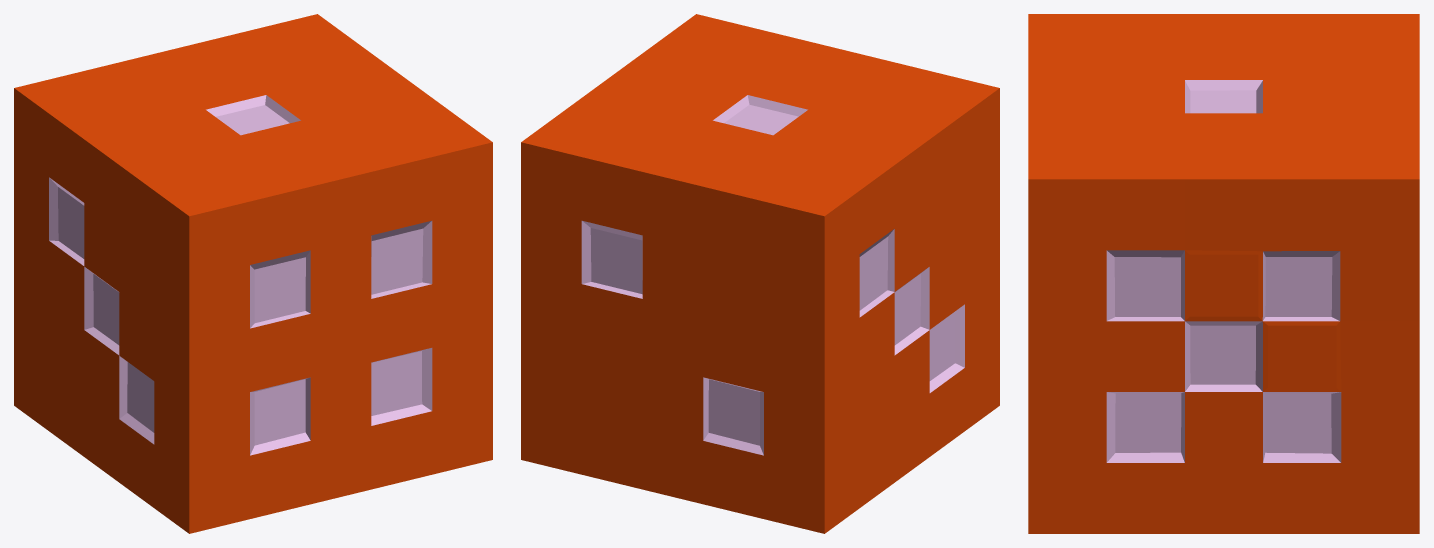
Rendered from dice2.glb.
3 renders of one model, left to right at view 1: azimuth 30°, elevation 25°; view 2: azimuth 150°, elevation 25°; view 3: azimuth 270°, elevation 25°, orthographic. The views are drawn at different scales.
Visible parts, largest first — view 1: Cube; view 2: Cube; view 3: Cube.
Boxes of the visible parts, bbox=[...] form: Cube: bbox=[14, 14, 492, 533]; Cube: bbox=[521, 14, 999, 533]; Cube: bbox=[1028, 14, 1419, 533].
Bounding box in the file's own units: 2 × 2 × 2.
